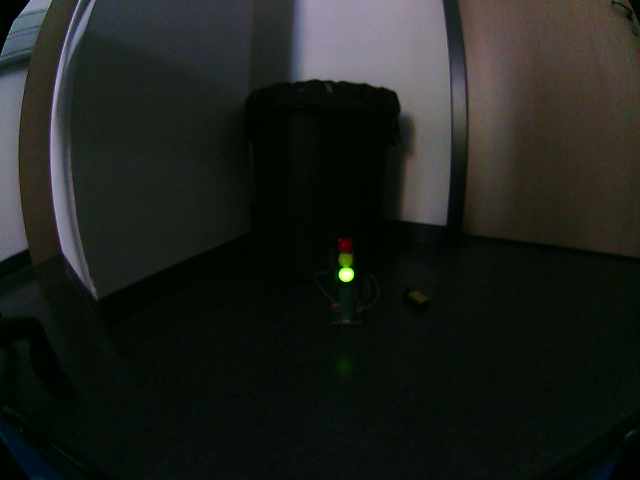green trafficlight: (337, 234, 356, 288)
